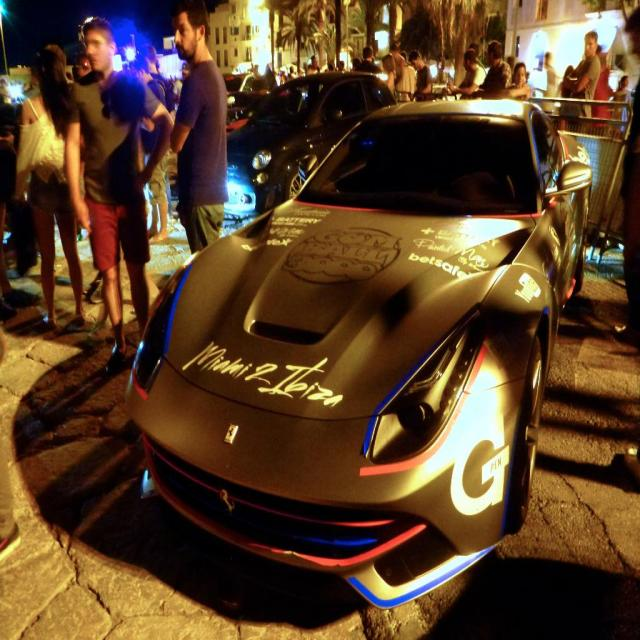car: (120, 93, 570, 599)
